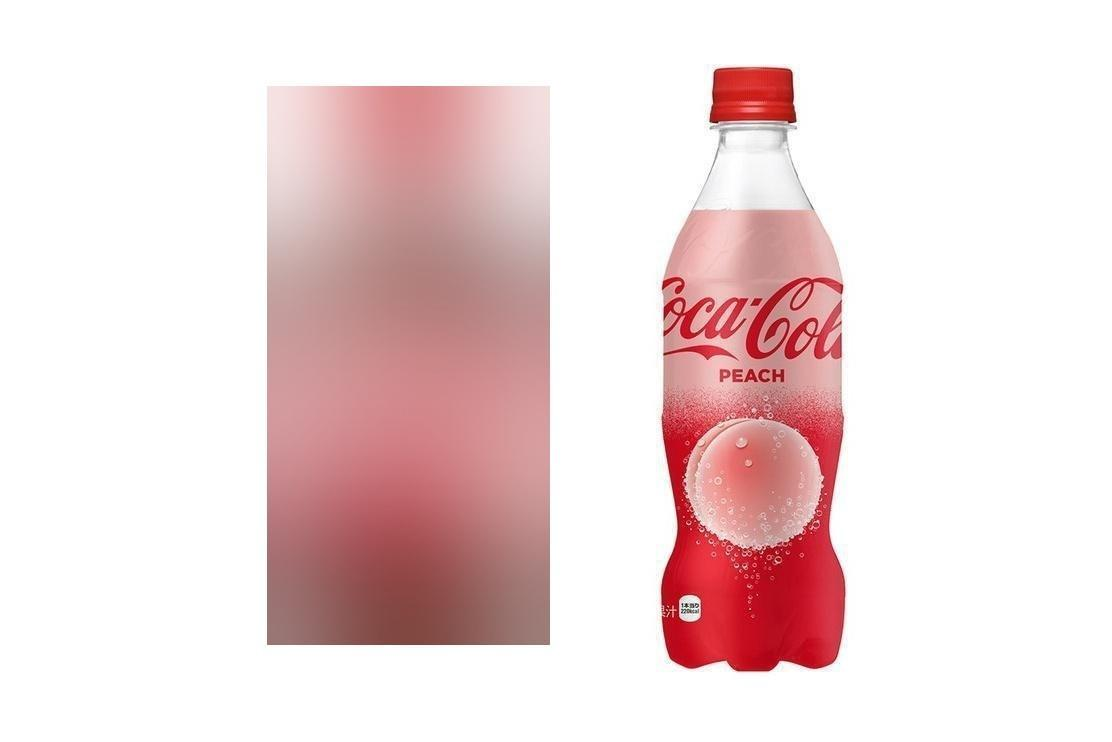bottle-plastic: (653, 59, 853, 679)
